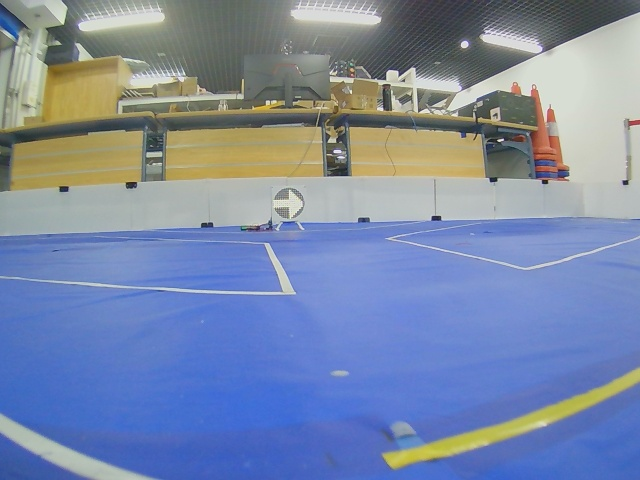right_yellow: (273, 187, 305, 220)
